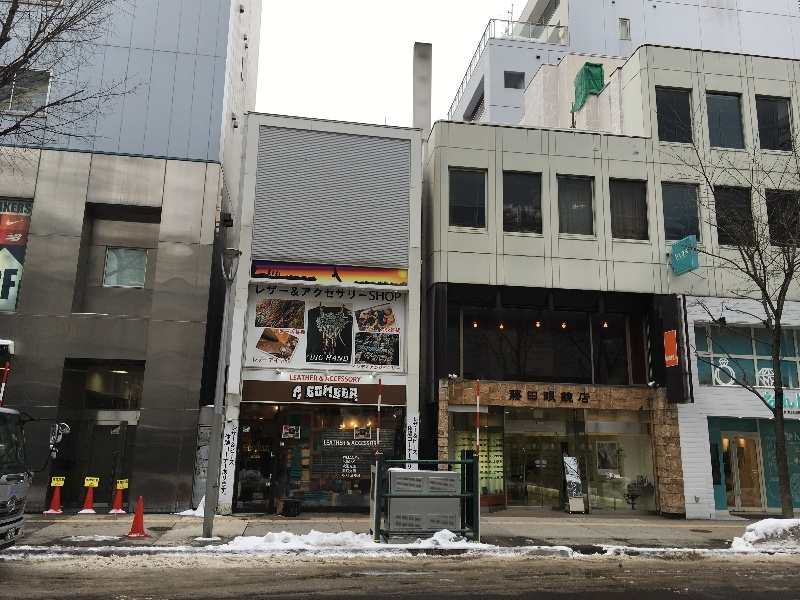text: (226, 433, 240, 495), (3, 215, 16, 249), (407, 426, 416, 470), (5, 267, 16, 302), (232, 424, 240, 466), (785, 433, 800, 452), (257, 285, 272, 303), (273, 285, 288, 303), (289, 285, 304, 303), (305, 285, 320, 303), (321, 285, 336, 303), (337, 285, 352, 303), (353, 285, 368, 303), (369, 285, 384, 303), (385, 285, 400, 303), (785, 391, 800, 409), (305, 384, 320, 402), (321, 384, 336, 402), (337, 384, 352, 402), (513, 388, 528, 404), (529, 388, 544, 404), (545, 388, 560, 404), (561, 388, 576, 404), (17, 215, 24, 249), (577, 388, 591, 404), (385, 414, 401, 428), (17, 203, 32, 216), (2, 203, 16, 216), (292, 385, 304, 400), (675, 249, 688, 261), (369, 408, 379, 423), (305, 374, 320, 383), (321, 374, 336, 383), (337, 374, 352, 383), (290, 374, 304, 383), (257, 356, 272, 364), (273, 356, 288, 364), (369, 326, 384, 334), (385, 326, 400, 334), (413, 416, 416, 456), (385, 364, 401, 371), (353, 384, 359, 402), (289, 328, 304, 335), (353, 364, 368, 371), (369, 364, 384, 371), (337, 440, 352, 447), (353, 440, 368, 447), (257, 445, 271, 452), (337, 354, 349, 362), (243, 445, 256, 452), (769, 394, 776, 407), (324, 440, 336, 447), (369, 440, 381, 447), (353, 374, 361, 383), (8, 532, 16, 541), (327, 354, 336, 362), (17, 267, 19, 302), (508, 388, 512, 404), (279, 328, 288, 335), (311, 354, 320, 361), (364, 408, 368, 423), (380, 414, 384, 428), (666, 354, 672, 363), (764, 394, 768, 407), (614, 455, 624, 460), (788, 410, 800, 414), (343, 455, 352, 460), (343, 474, 352, 479), (343, 469, 352, 474), (343, 460, 352, 465), (673, 354, 678, 363), (113, 431, 128, 434), (385, 408, 394, 413), (53, 478, 64, 482), (117, 481, 128, 485), (417, 416, 418, 456), (353, 474, 361, 479), (343, 464, 352, 468), (782, 391, 784, 409), (9, 528, 16, 533), (353, 455, 359, 460), (353, 460, 359, 465), (86, 479, 96, 482), (321, 354, 325, 361), (253, 356, 256, 364), (244, 430, 256, 432), (353, 469, 357, 474), (401, 285, 402, 303), (289, 356, 291, 364), (366, 326, 368, 334), (353, 464, 357, 468), (381, 408, 384, 413), (625, 455, 628, 460), (689, 249, 690, 261), (395, 413, 400, 415), (305, 328, 306, 335), (253, 456, 256, 458), (785, 410, 786, 414), (97, 479, 98, 482), (257, 456, 258, 458), (401, 413, 402, 415)
